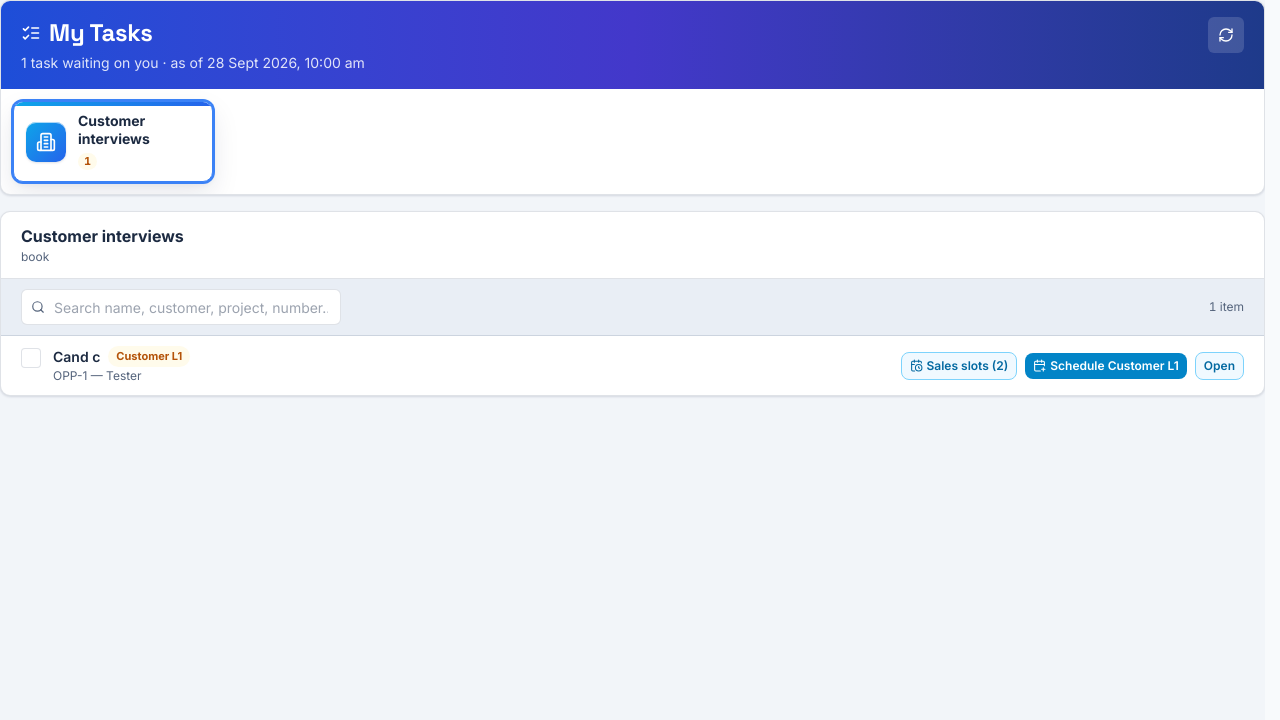
Test: MyTasksPage › a customer interview shows the Sales slots and books in place
What coordinates should you click on to do the following:
click the button "Sales slots (2)"
I would click on:
 (959, 366)
Its box is left=900, top=352, right=1017, bottom=380.
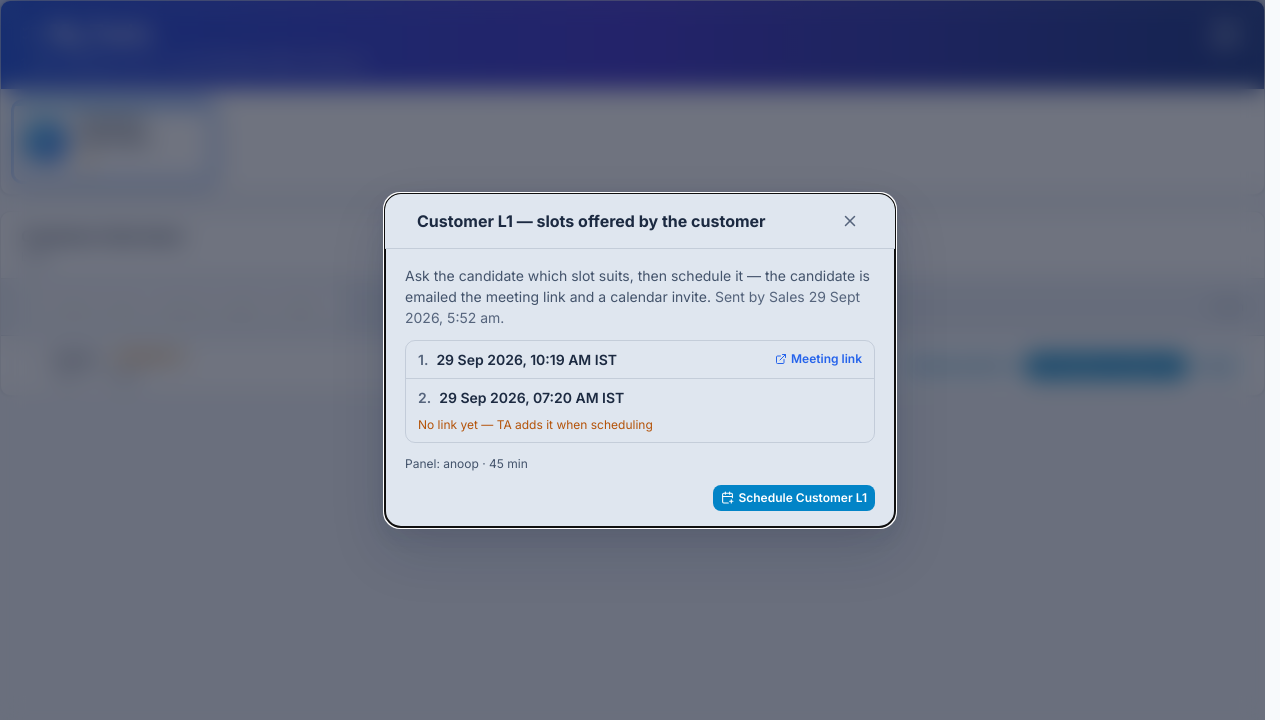
expect the button "Schedule Customer L1" next to "Open" is shown: met, box left=1025, top=353, right=1187, bottom=379
expect the dialog "Customer L1 — slots offered by the customer" shows "29 Sep 2026, 07:20 AM IST": met, box left=439, top=388, right=624, bottom=406
expect the dialog "Customer L1 — slots offered by the customer" shows "Panel: anoop": met, box left=405, top=456, right=528, bottom=470
